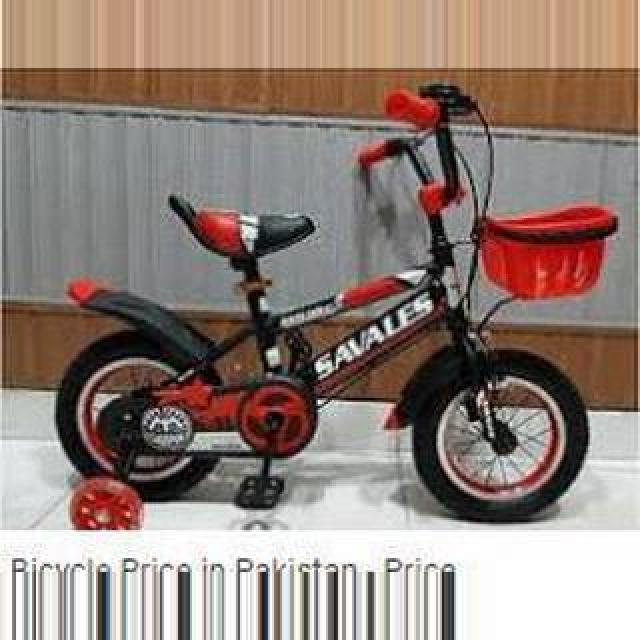Person: (52, 86, 622, 526)
